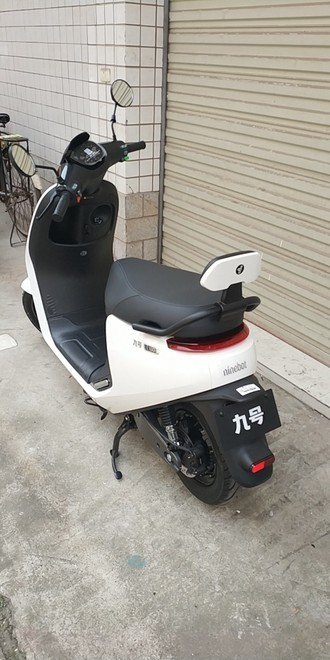MNV: (23, 131, 276, 504)
